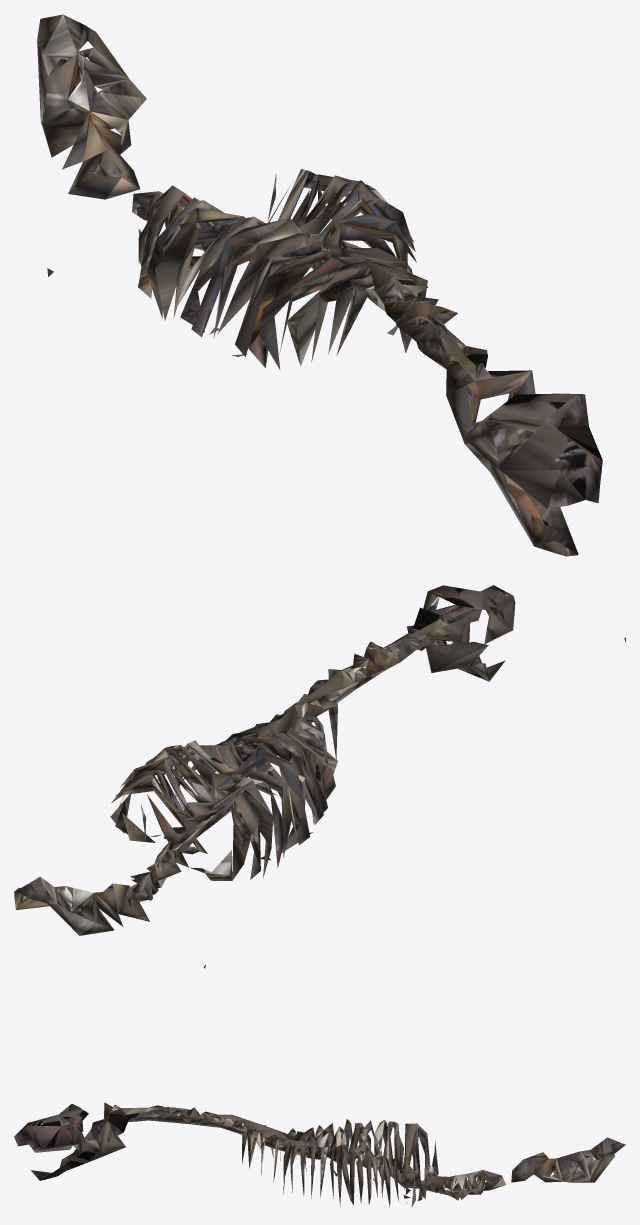
The model's file is Skelaton3.fbx.
The picture shows the model from 3 angles, top to bottom: view 1: azimuth 30°, elevation 25°; view 2: azimuth 150°, elevation 25°; view 3: azimuth 270°, elevation 25°; orthographic projection. The views are drawn at different scales.
Visible parts, largest first — view 1: Mesh1_Mesh1.034; view 2: Mesh1_Mesh1.034; view 3: Mesh1_Mesh1.034.
Boxes of the visible parts, x1,y1,x2,y2 form: Mesh1_Mesh1.034: (37,14,602,556); Mesh1_Mesh1.034: (14,585,625,935); Mesh1_Mesh1.034: (14,965,625,1207).
Size of the model in its own units: 99.82 by 48.64 by 199.
